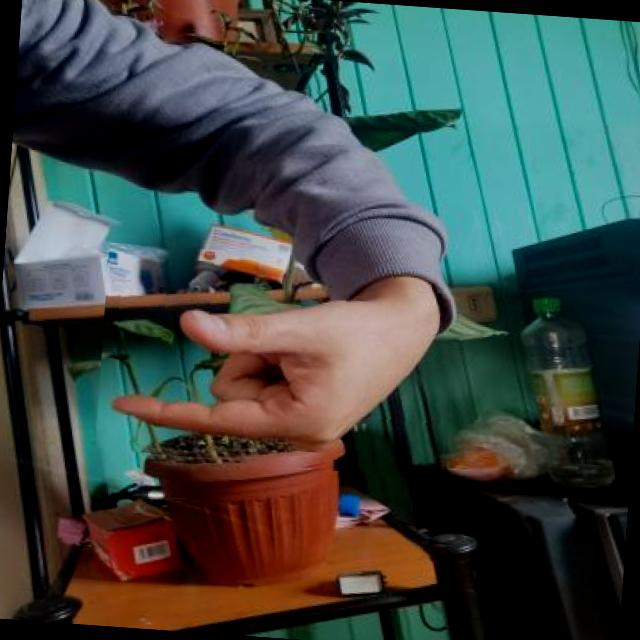G: (94, 242, 462, 480)
